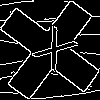X: (25, 25, 79, 81)
